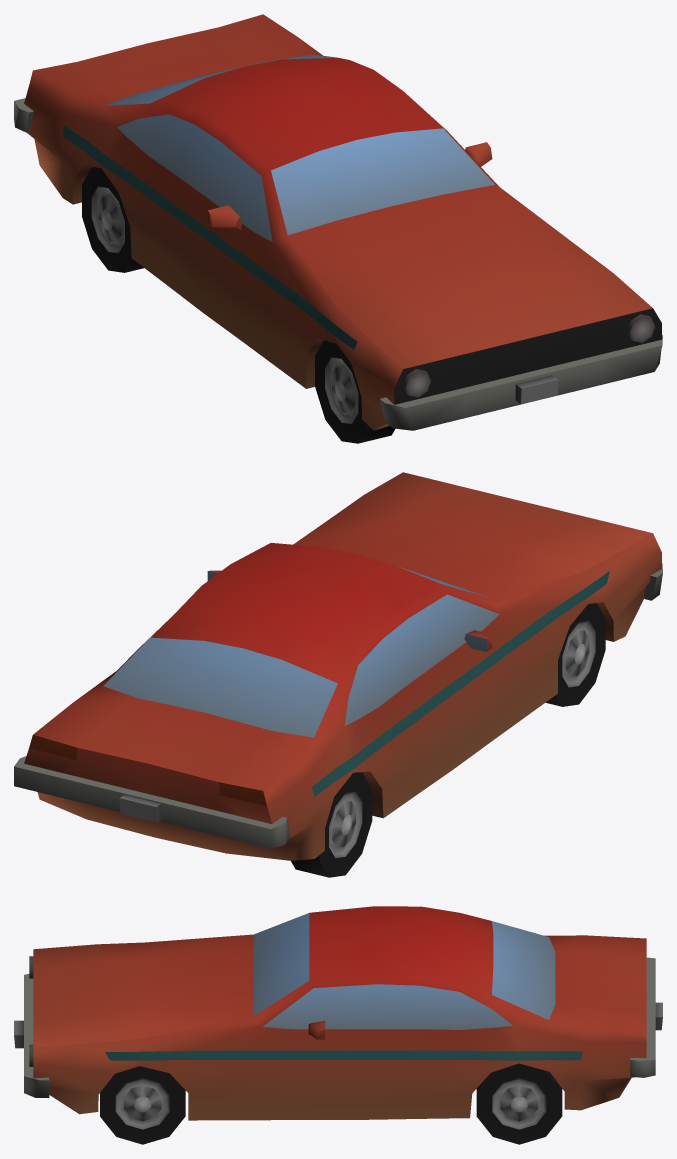
3 renders of one model, top to bottom at view 1: azimuth 30°, elevation 25°; view 2: azimuth 150°, elevation 25°; view 3: azimuth 270°, elevation 25°, orthographic. The views are drawn at different scales.
Visible parts, largest first — view 1: color.081; view 2: color.081; view 3: color.081.
Part boxes in pixels (box(x1,y1,x2,y2)): color.081: box(14, 14, 662, 443); color.081: box(14, 472, 662, 877); color.081: box(14, 906, 662, 1144).
Size of the model in its own units: 0.2006 by 0.1406 by 0.5.
